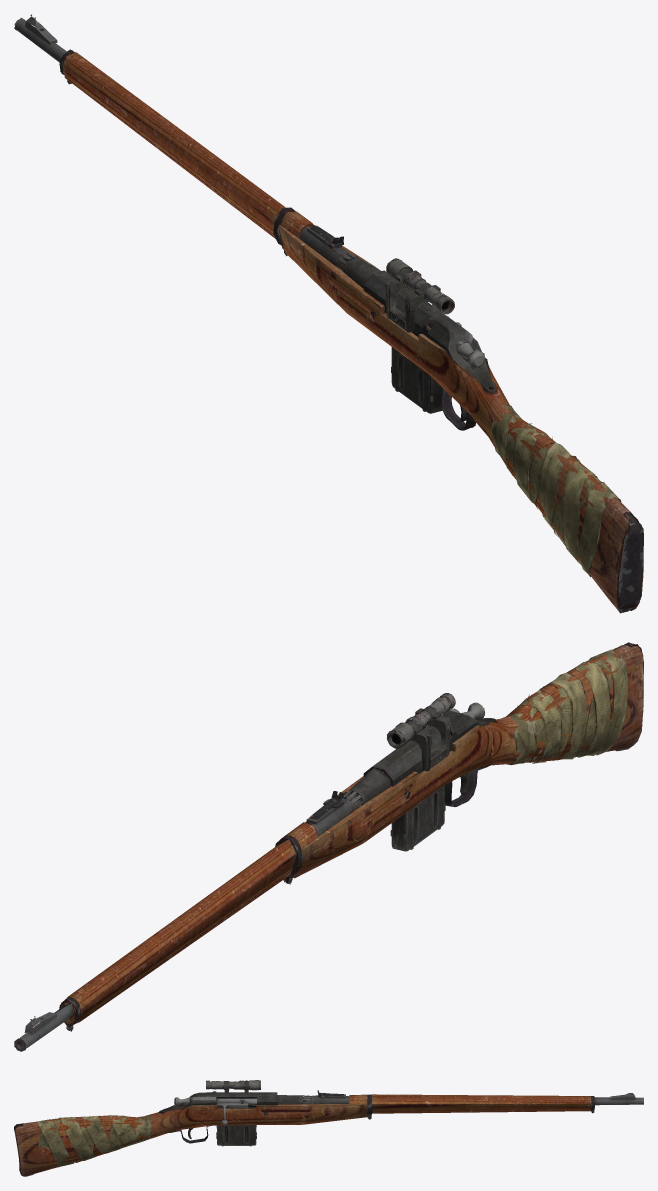
File: awp.glb
3 renders of one model, top to bottom at view 1: azimuth 30°, elevation 25°; view 2: azimuth 150°, elevation 25°; view 3: azimuth 270°, elevation 25°, orthographic. The views are drawn at different scales.
Parts seen in each view (by area): view 1: bolt_action_rifle_7_62, bolt_action_rifle_7_62_wrap, bolt_action_rifle_7_62_scope; view 2: bolt_action_rifle_7_62, bolt_action_rifle_7_62_wrap, bolt_action_rifle_7_62_scope; view 3: bolt_action_rifle_7_62, bolt_action_rifle_7_62_wrap, bolt_action_rifle_7_62_scope, action, bolt_action_rifle_7_62_bolt_b.
Part boxes in pixels (bbox=[...]): bolt_action_rifle_7_62: bbox=[14, 14, 643, 613]; bolt_action_rifle_7_62_wrap: bbox=[491, 404, 621, 576]; bolt_action_rifle_7_62_scope: bbox=[385, 258, 454, 332]; bolt_action_rifle_7_62: bbox=[14, 642, 643, 1051]; bolt_action_rifle_7_62_wrap: bbox=[492, 649, 628, 765]; bolt_action_rifle_7_62_scope: bbox=[386, 693, 455, 771]; bolt_action_rifle_7_62: bbox=[14, 1090, 643, 1176]; bolt_action_rifle_7_62_wrap: bbox=[36, 1115, 151, 1167]; bolt_action_rifle_7_62_scope: bbox=[206, 1080, 260, 1092]; action: bbox=[216, 1098, 256, 1125]; bolt_action_rifle_7_62_bolt_b: bbox=[174, 1097, 243, 1105].
Bounding box in the file's own units: 2.63 × 8.1 × 48.51.
3 materials, 3 textured.
